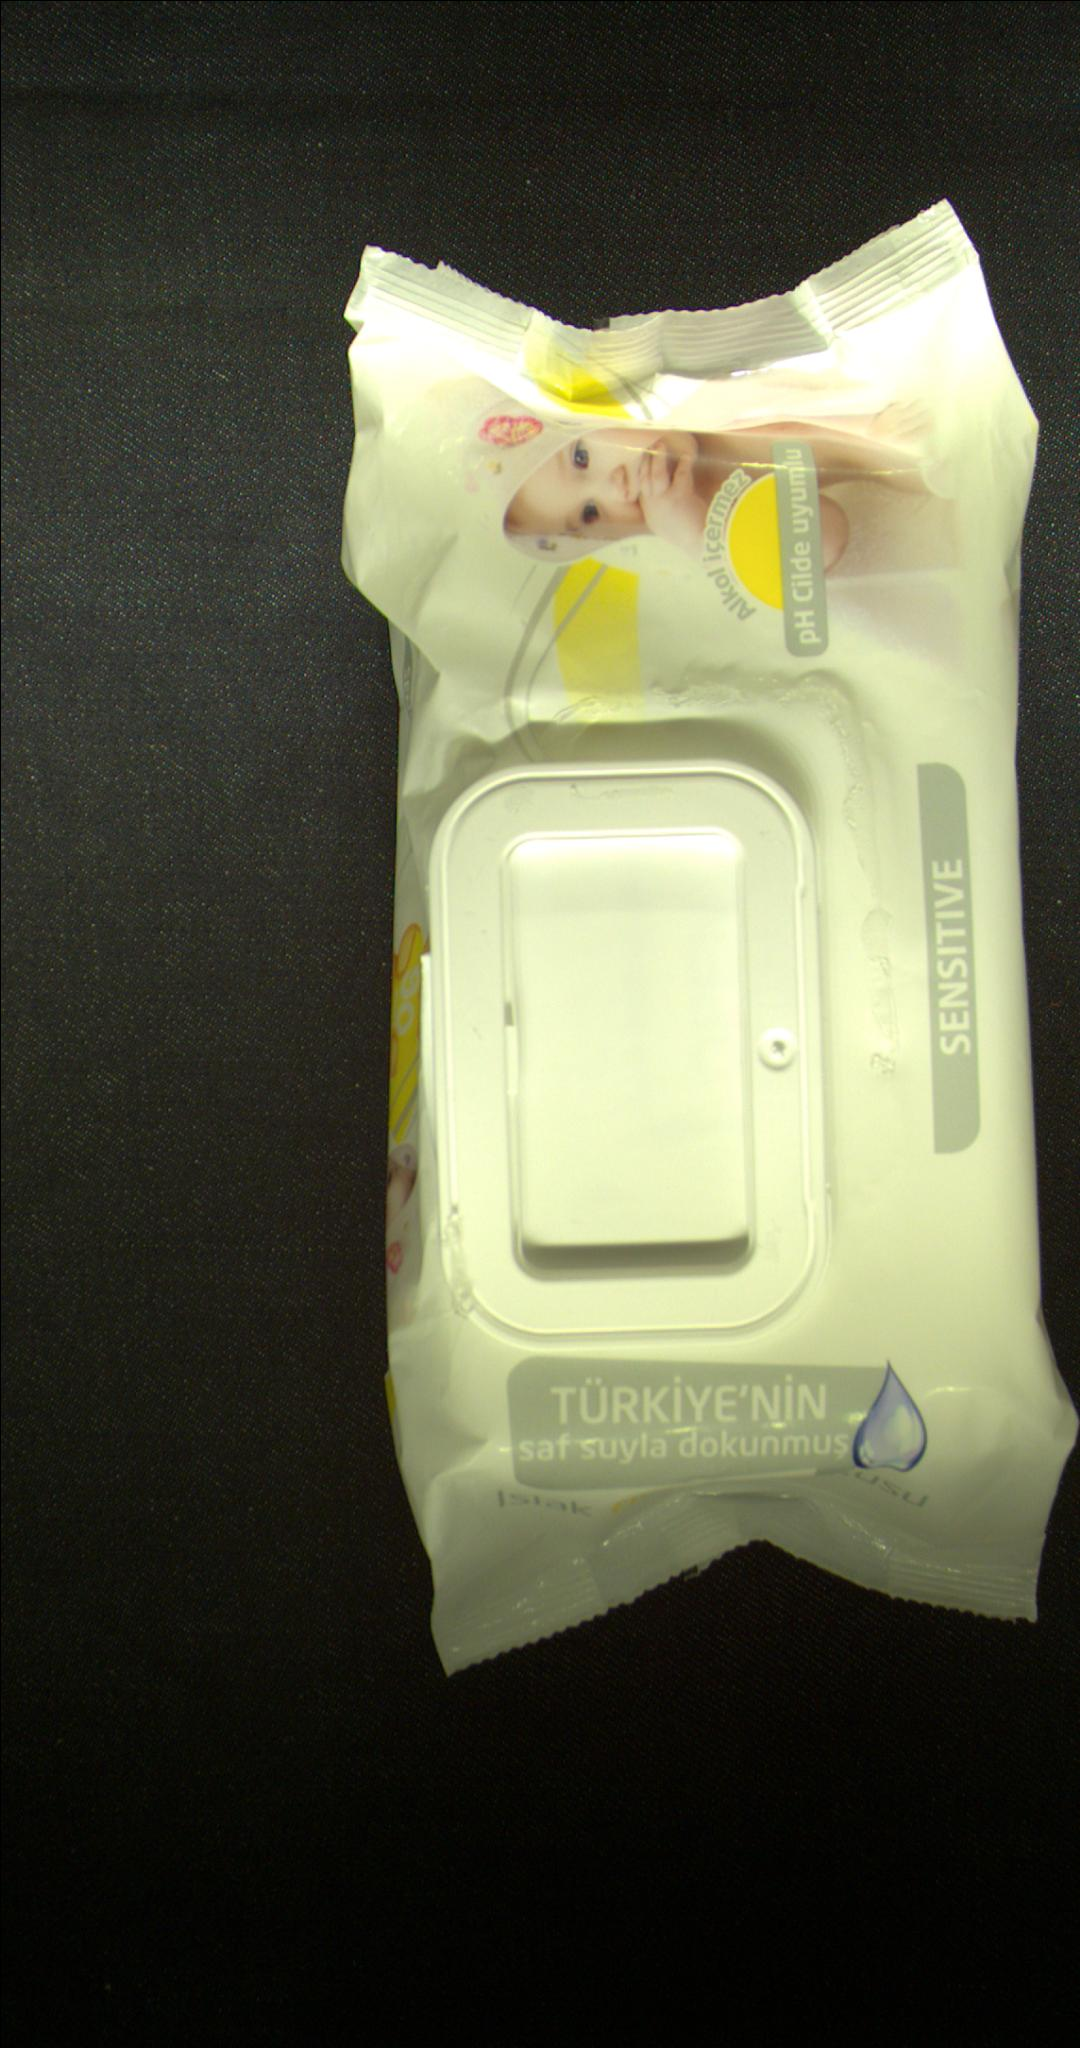hatali-kapak: (416, 757, 835, 1357)
